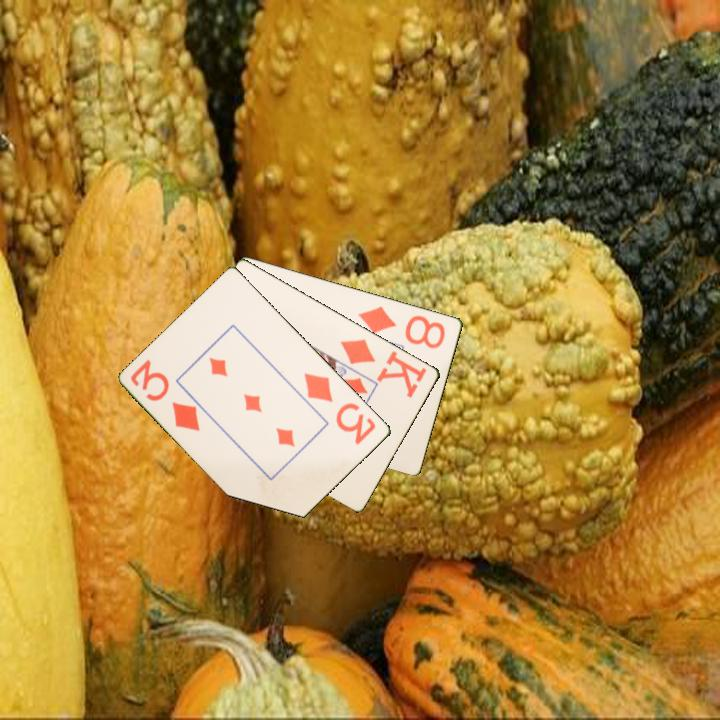3d: (301, 369, 379, 448), (127, 356, 204, 434)
8d: (355, 302, 448, 351)
Kd: (337, 335, 430, 401)
